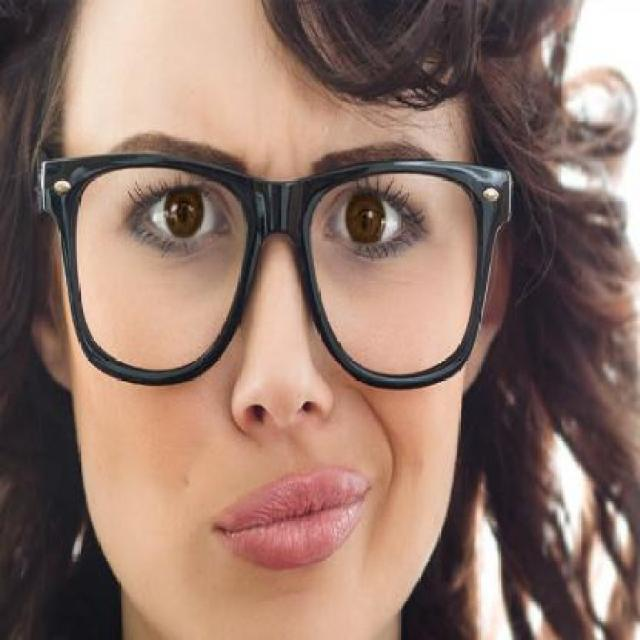Glasses: (37, 143, 518, 395)
